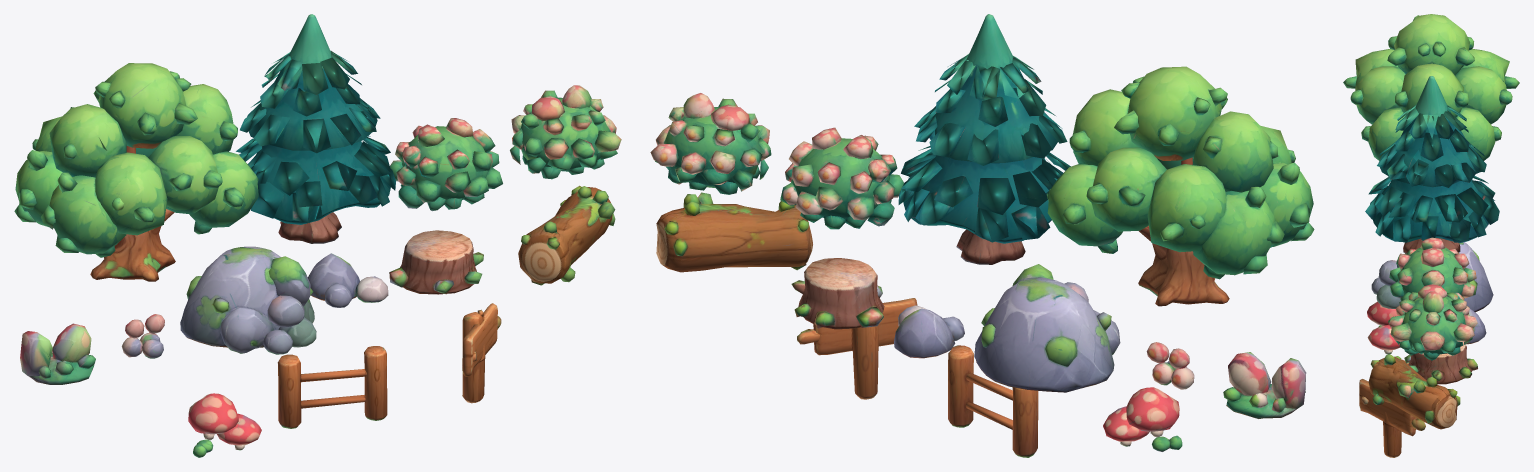
Rendered from bosque.glb.
3 views of the same model, side by side, from view 1: azimuth 30°, elevation 25°; view 2: azimuth 150°, elevation 25°; view 3: azimuth 270°, elevation 25° (orthographic). The views are drawn at different scales.
Parts seen in each view (by area): view 1: arbol_redondo, pino, roca_grande, arbusto, arbusto_flores, tronco, tocon, valla, matas, setas, piedras, cartel (+1 smaller); view 2: arbol_redondo, pino, roca_grande, tronco, arbusto, arbusto_flores, tocon, valla, matas, cartel, setas, piedras (+1 smaller); view 3: pino, arbol_redondo, arbusto_flores, tronco, arbusto, cartel, roca_grande, tocon, setas, piedras.
Part boxes in pixels (<box>): arbol_redondo: <box>14,63,258,281</box>; pino: <box>236,14,395,243</box>; roca_grande: <box>180,246,316,354</box>; arbusto: <box>390,118,502,211</box>; arbusto_flores: <box>510,85,621,179</box>; tronco: <box>518,185,615,285</box>; tocon: <box>389,230,483,294</box>; valla: <box>277,346,387,428</box>; matas: <box>20,323,95,384</box>; setas: <box>188,393,261,457</box>; piedras: <box>307,253,388,307</box>; cartel: <box>462,303,501,403</box>; arbol_redondo: <box>1046,66,1314,306</box>; pino: <box>898,14,1070,264</box>; roca_grande: <box>974,264,1120,392</box>; tronco: <box>656,192,812,272</box>; arbusto: <box>780,127,903,229</box>; arbusto_flores: <box>650,93,771,194</box>; tocon: <box>791,258,884,329</box>; valla: <box>948,345,1038,457</box>; matas: <box>1223,352,1306,418</box>; cartel: <box>797,298,917,399</box>; setas: <box>1103,387,1182,451</box>; piedras: <box>894,305,964,358</box>; pino: <box>1365,76,1499,253</box>; arbol_redondo: <box>1343,14,1519,160</box>; arbusto_flores: <box>1388,284,1477,360</box>; tronco: <box>1368,354,1460,429</box>; arbusto: <box>1389,237,1476,300</box>; cartel: <box>1359,379,1425,457</box>; roca_grande: <box>1371,242,1493,312</box>; tocon: <box>1404,342,1477,384</box>; setas: <box>1367,301,1400,354</box>; piedras: <box>1466,309,1486,344</box>.
Size of the model in its own units: 1 by 0.6558 by 0.3228.
1 material, 1 textured.
